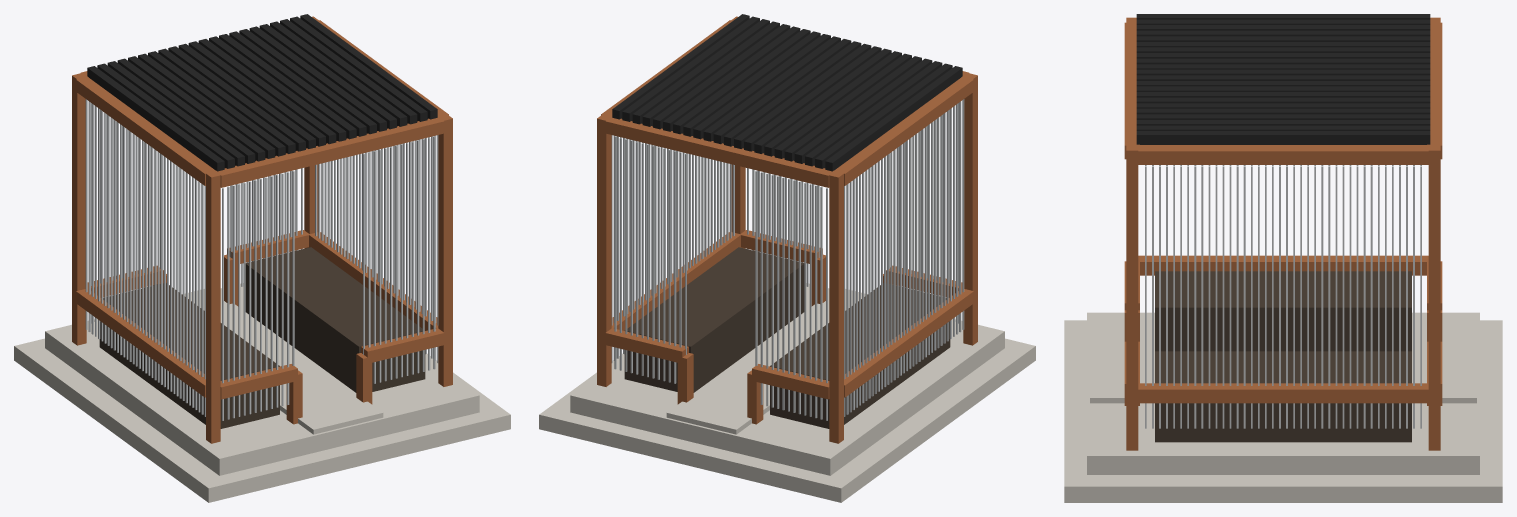
File: autumn.glb
3 views of the same model, side by side, from view 1: azimuth 30°, elevation 25°; view 2: azimuth 150°, elevation 25°; view 3: azimuth 270°, elevation 25° (orthographic). The views are drawn at different scales.
Parts seen in each view (by area): view 1: Autumn_Wires, Autumn_Frame2, Autumn_Roof, Autumn_Plinth, Autumn_Benches, Autumn_Walkway; view 2: Autumn_Wires, Autumn_Frame2, Autumn_Roof, Autumn_Plinth, Autumn_Benches, Autumn_Walkway; view 3: Autumn_Plinth, Autumn_Roof, Autumn_Benches, Autumn_Frame2, Autumn_Wires, Autumn_Walkway.
Part boxes in pixels (x1,y1,x2,y2): Autumn_Wires: (85, 99, 438, 420); Autumn_Frame2: (72, 16, 452, 443); Autumn_Roof: (87, 14, 437, 171); Autumn_Plinth: (14, 283, 510, 502); Autumn_Benches: (99, 247, 425, 428); Autumn_Walkway: (182, 289, 383, 434); Autumn_Wires: (611, 99, 964, 420); Autumn_Frame2: (597, 16, 977, 443); Autumn_Roof: (612, 14, 962, 171); Autumn_Plinth: (539, 283, 1035, 502); Autumn_Benches: (624, 247, 950, 428); Autumn_Walkway: (666, 289, 867, 434); Autumn_Plinth: (1064, 312, 1502, 502); Autumn_Roof: (1136, 14, 1430, 144); Autumn_Benches: (1155, 271, 1411, 442); Autumn_Frame2: (1124, 17, 1442, 450); Autumn_Wires: (1145, 165, 1421, 428); Autumn_Walkway: (1090, 359, 1476, 403).
Bounding box in the file's own units: 2.6 × 2.52 × 2.9.
